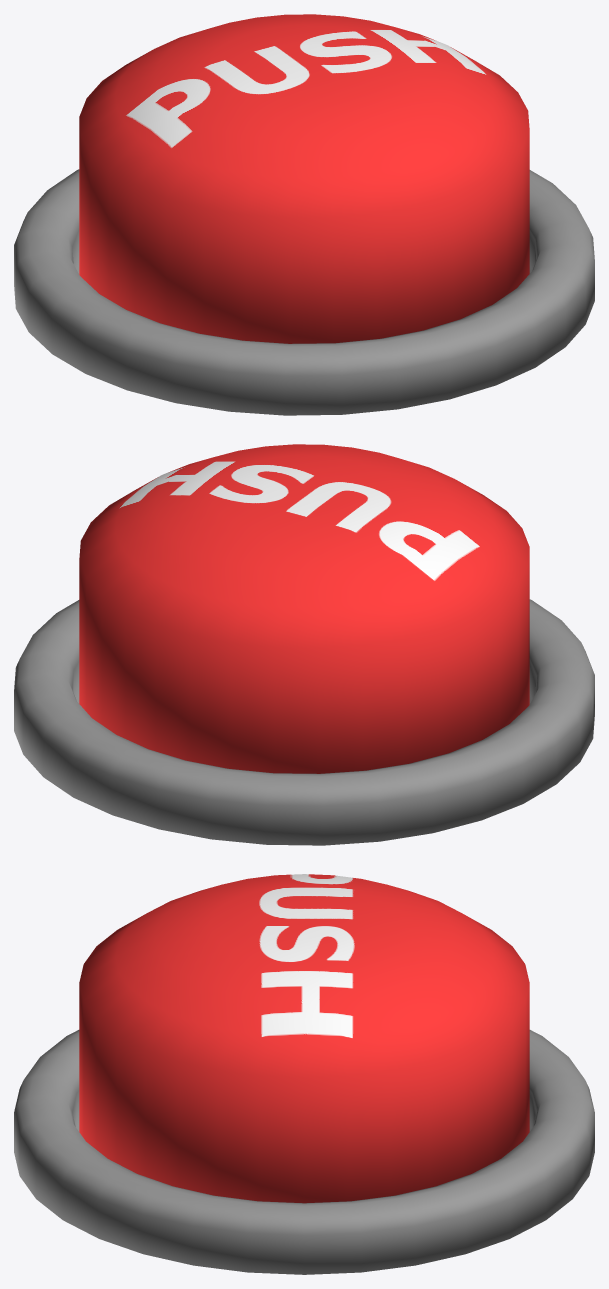
The model's file is Button.fbx.
3 renders of one model, top to bottom at view 1: azimuth 30°, elevation 25°; view 2: azimuth 150°, elevation 25°; view 3: azimuth 270°, elevation 25°, orthographic.
Visible parts, largest first — view 1: Circle; view 2: Circle; view 3: Circle.
Part boxes in pixels (box(x1,y1,x2,y2)): Circle: box(14, 14, 594, 415); Circle: box(14, 444, 594, 845); Circle: box(14, 874, 594, 1274).
Size of the model in its own units: 200 by 87.6 by 200.
